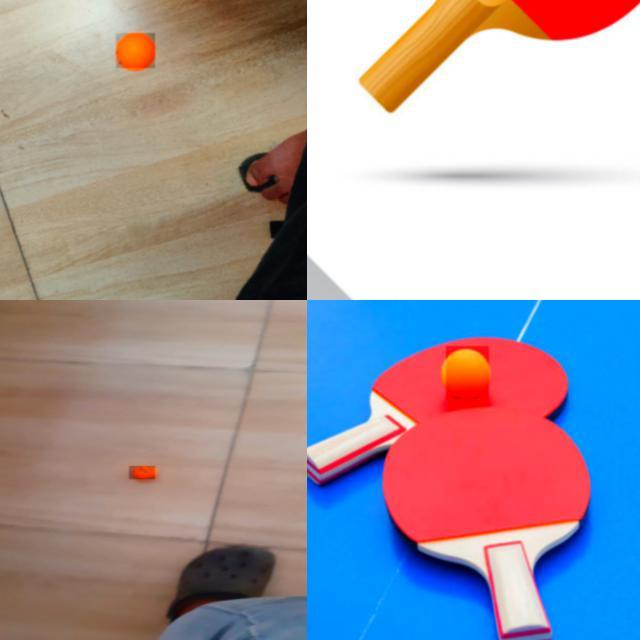ping-pong-ball: (446, 346, 489, 399), (116, 33, 156, 69), (129, 466, 156, 480)
